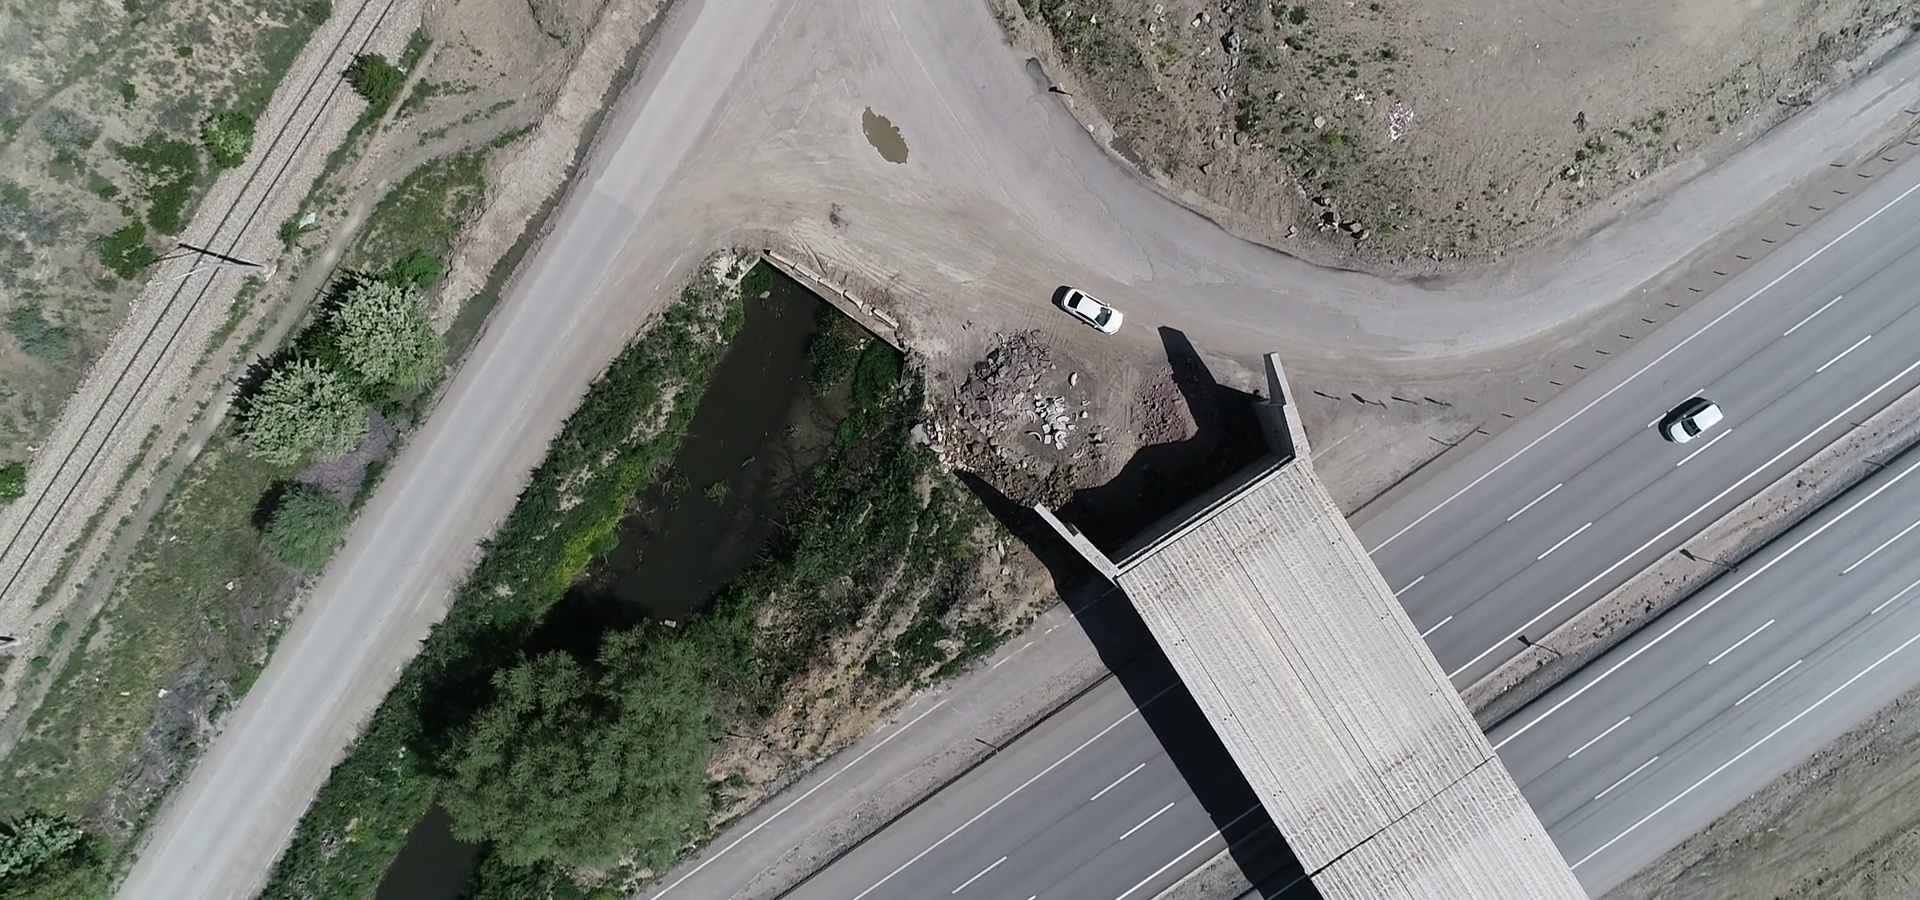araba: (1046, 269, 1139, 347), (1664, 392, 1741, 447)
